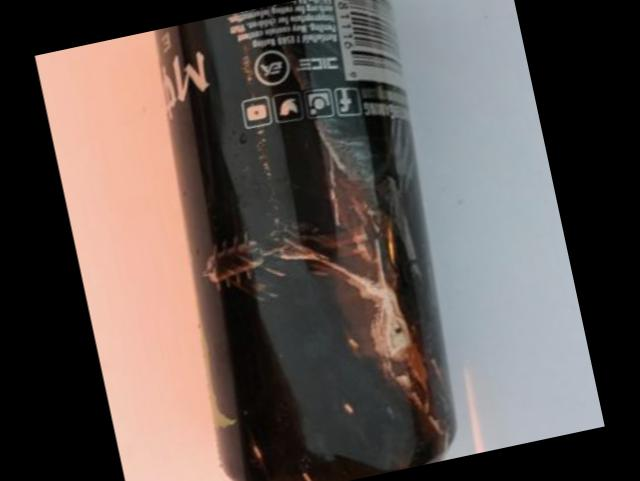metal: (154, 0, 452, 481)
